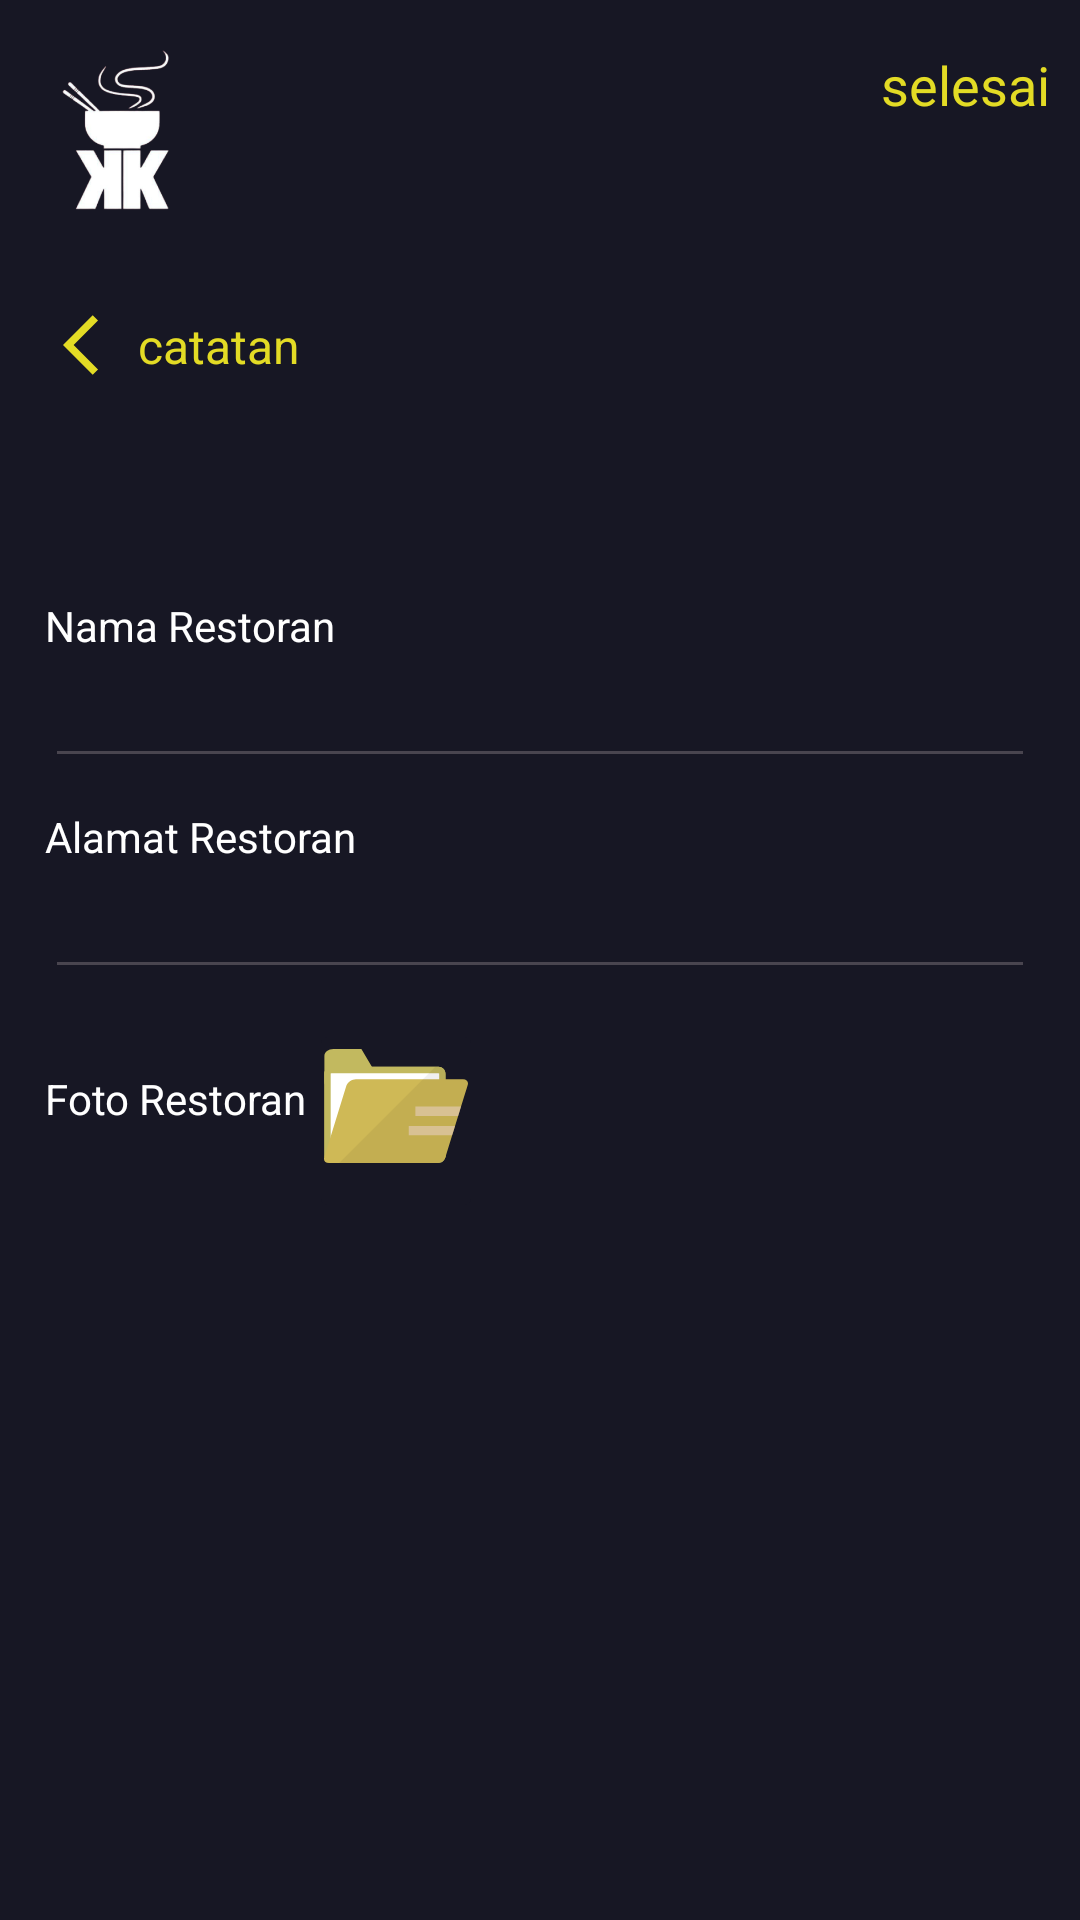

Icon bounding boxes for this 1080 x 1920 phone screenshot, format (x1, y1, x2, y2):
arrow back: (63, 315, 98, 375)
